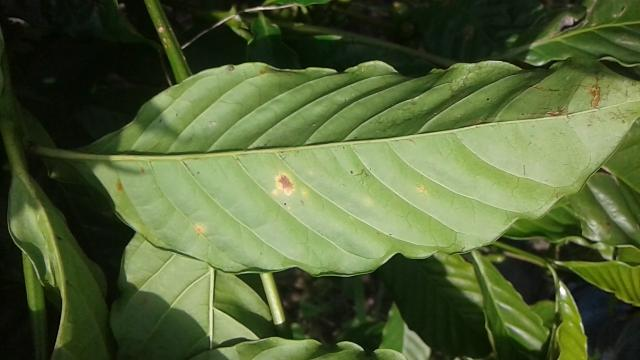rust_level_2: (76, 57, 640, 274)
